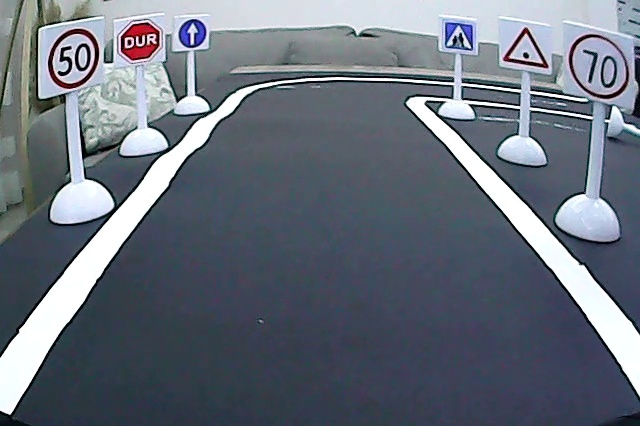green light: (501, 24, 552, 71)
school crossing: (440, 18, 478, 54)
speed limit 50: (45, 26, 99, 93)
speed limit 70: (567, 29, 631, 102)
stop sign: (116, 18, 165, 64)
